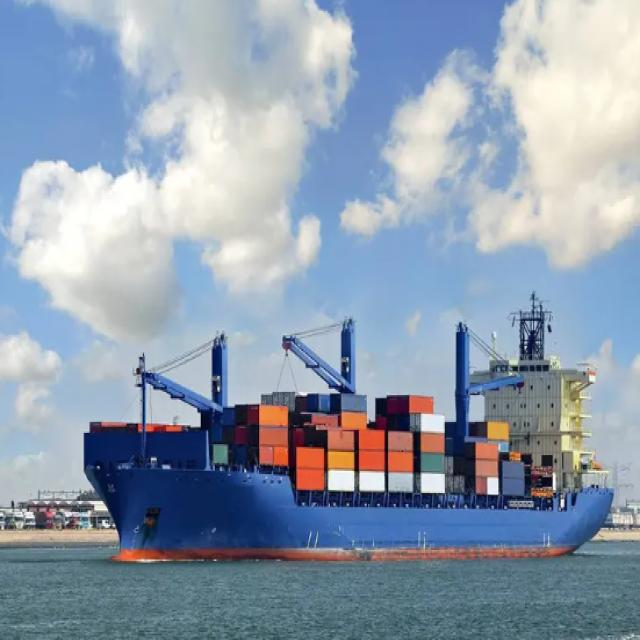cargoship: (77, 270, 587, 598)
